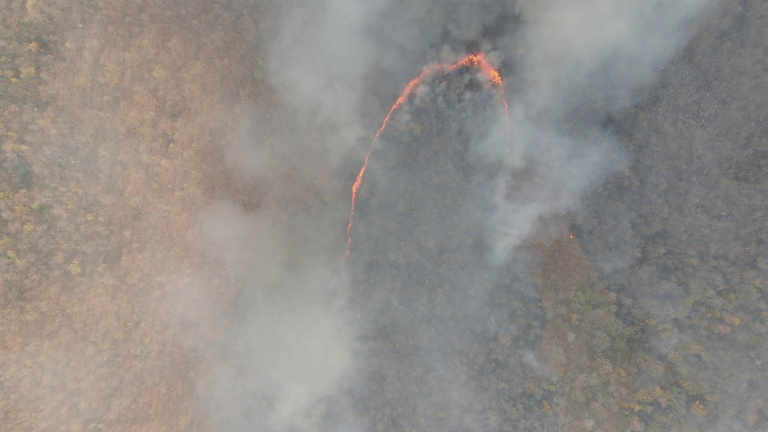fire: (339, 47, 511, 273), (561, 230, 577, 244)
smoke: (187, 1, 400, 425), (474, 1, 687, 268)
